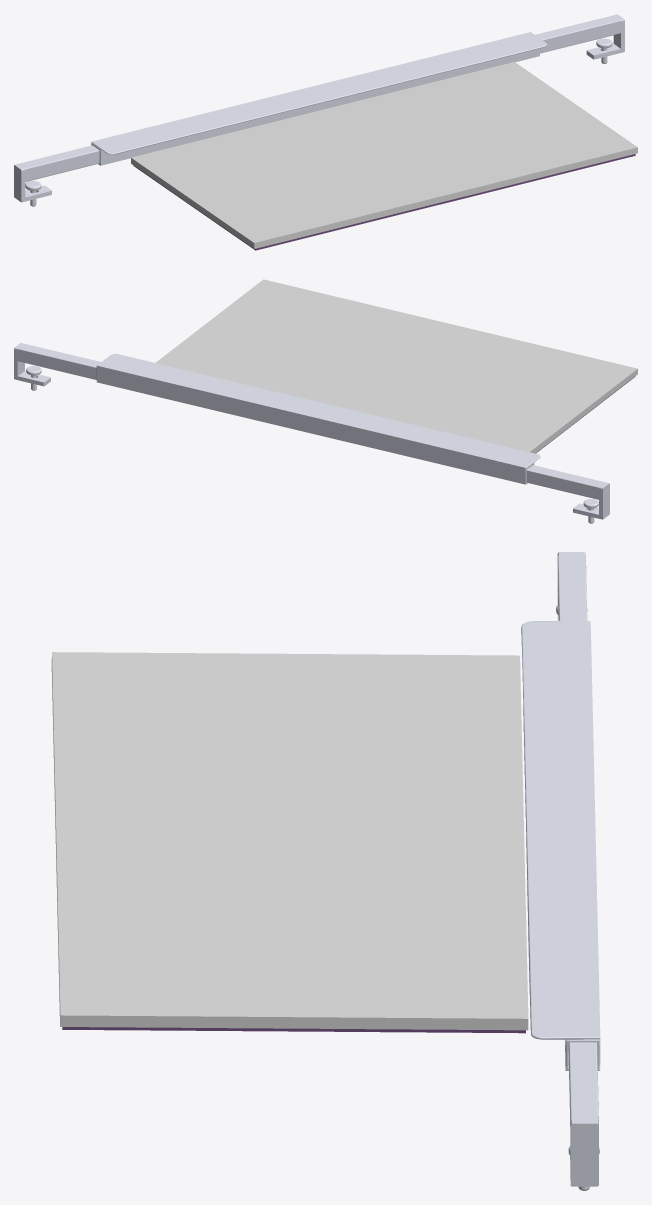
The model's file is ergoflex-art-easel.glb.
The picture shows the model from 3 angles, top to bottom: view 1: azimuth 30°, elevation 25°; view 2: azimuth 150°, elevation 25°; view 3: azimuth 270°, elevation 25°; orthographic projection. The views are drawn at different scales.
Visible parts, largest first — view 1: Mesh_5, Mesh_1, Mesh_0; view 2: Mesh_5, Mesh_1; view 3: Mesh_5, Mesh_1, Mesh_0.
Part boxes in pixels (box(x1,y1,x2,y2)): Mesh_5: box(131, 62, 637, 248); Mesh_1: box(14, 14, 624, 206); Mesh_0: box(133, 154, 635, 250); Mesh_5: box(155, 279, 637, 453); Mesh_1: box(14, 343, 609, 523); Mesh_5: box(51, 652, 528, 1030); Mesh_1: box(521, 552, 600, 1190); Mesh_0: box(62, 1027, 525, 1033).
Size of the model in its own units: 1.48 by 0.1057 by 0.6025.
